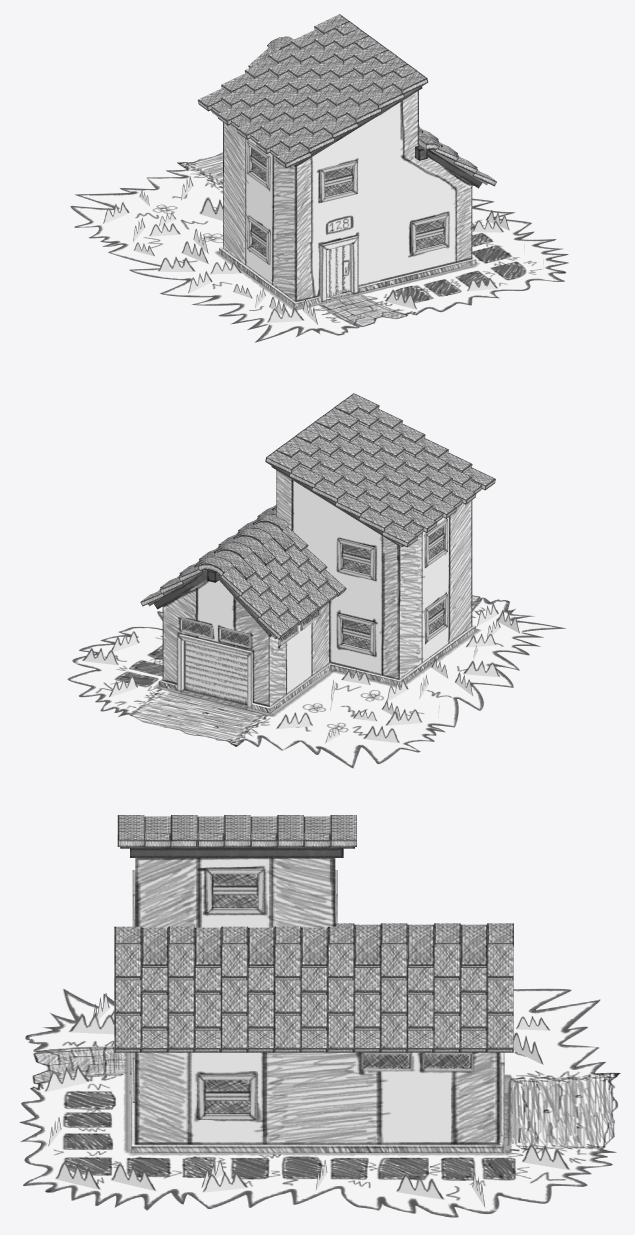
3 renders of one model, top to bottom at view 1: azimuth 30°, elevation 25°; view 2: azimuth 150°, elevation 25°; view 3: azimuth 270°, elevation 25°, orthographic. The views are drawn at different scales.
Visible parts, largest first — view 1: house_mesh; view 2: house_mesh; view 3: house_mesh.
Boxes of the visible parts, x1=… form: house_mesh: x1=70, y1=14, x2=568, y2=342; house_mesh: x1=67, y1=393, x2=565, y2=768; house_mesh: x1=19, y1=815, x2=620, y2=1217.
Bounding box in the file's own units: 4.03 × 2.03 × 4.03.
Materials: 2 (2 with a texture image).
